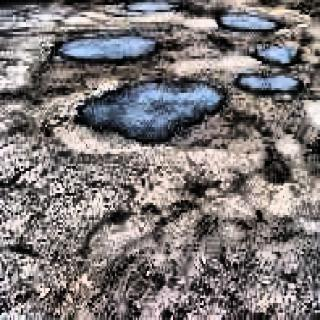alligator-crack: (86, 144, 280, 273)
pothole: (77, 76, 226, 151), (51, 27, 157, 66), (234, 70, 304, 98), (222, 11, 279, 33), (256, 43, 300, 69), (127, 0, 184, 15)
